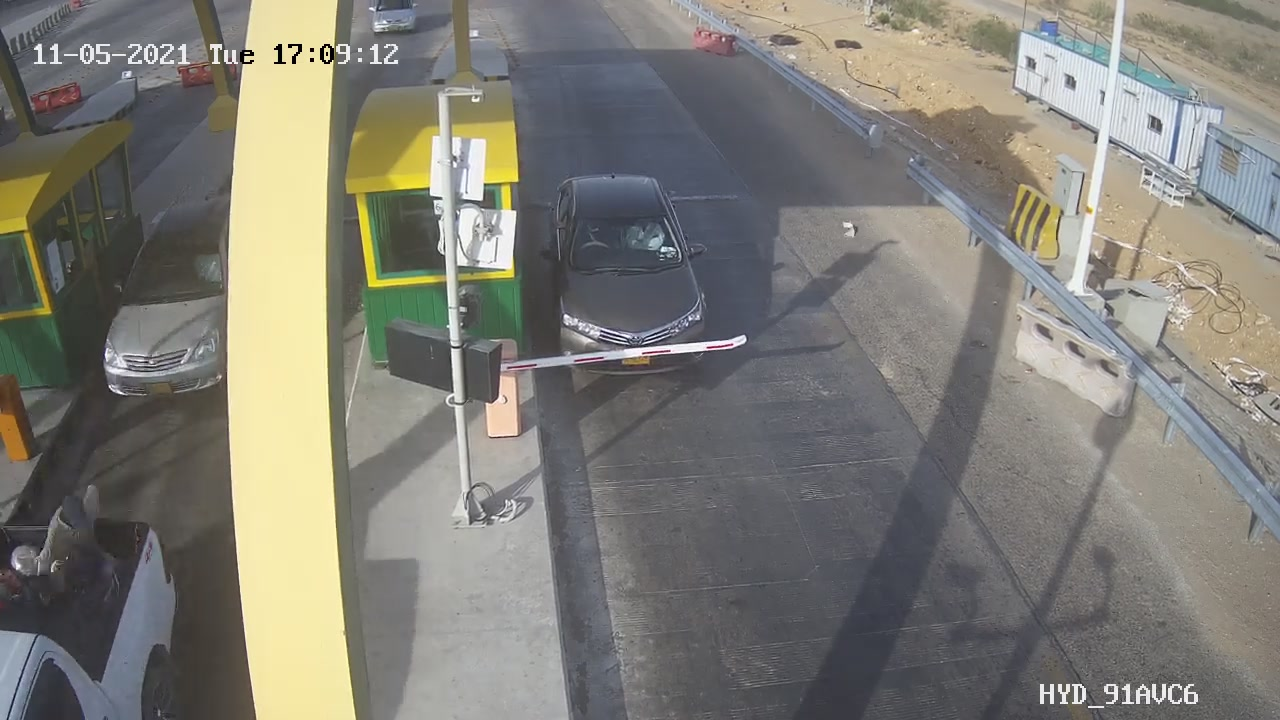F1: (526, 152, 731, 399)
